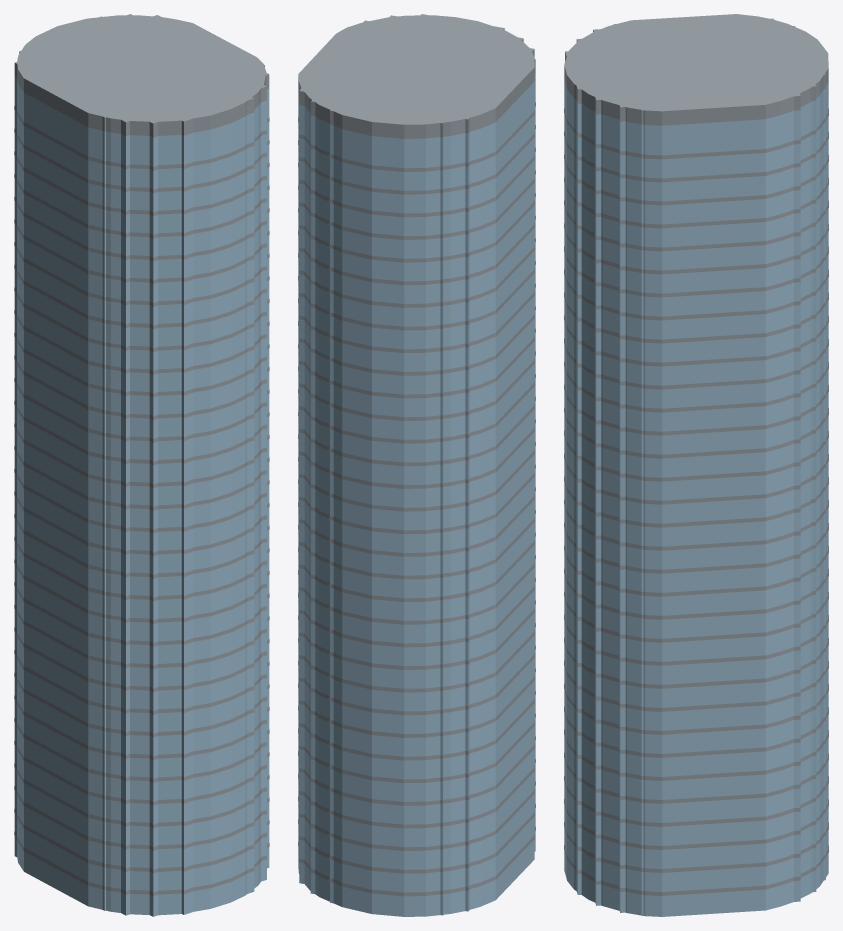
The picture shows the model from 3 angles, left to right: view 1: azimuth 30°, elevation 25°; view 2: azimuth 150°, elevation 25°; view 3: azimuth 270°, elevation 25°; orthographic projection.
Parts seen in each view (by area): view 1: glass, roof; view 2: glass, roof; view 3: glass, roof.
Boxes of the visible parts, <box> form: glass: <box>14,77,269,916</box>; roof: <box>14,14,269,895</box>; glass: <box>298,73,535,916</box>; roof: <box>298,14,535,896</box>; glass: <box>564,80,828,916</box>; roof: <box>564,14,828,895</box>.
Size of the model in its own units: 29.06 by 112 by 33.38.
